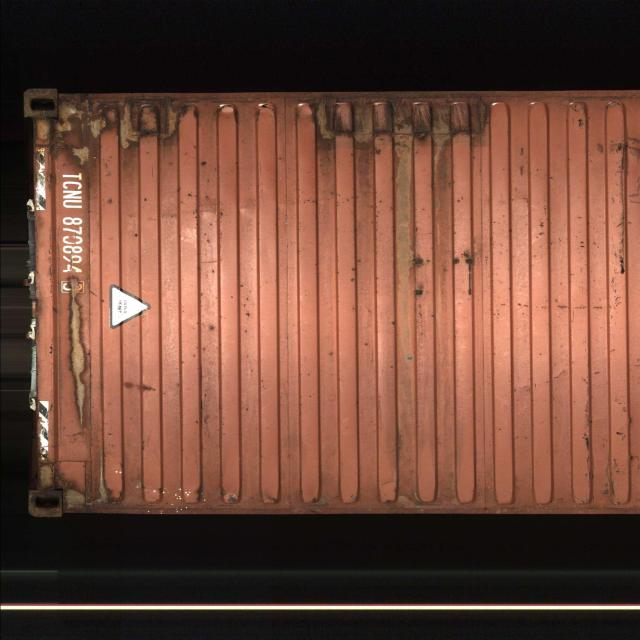rust: (307, 96, 494, 147), (66, 276, 99, 421), (51, 99, 111, 172), (117, 94, 187, 149), (67, 483, 116, 514)
